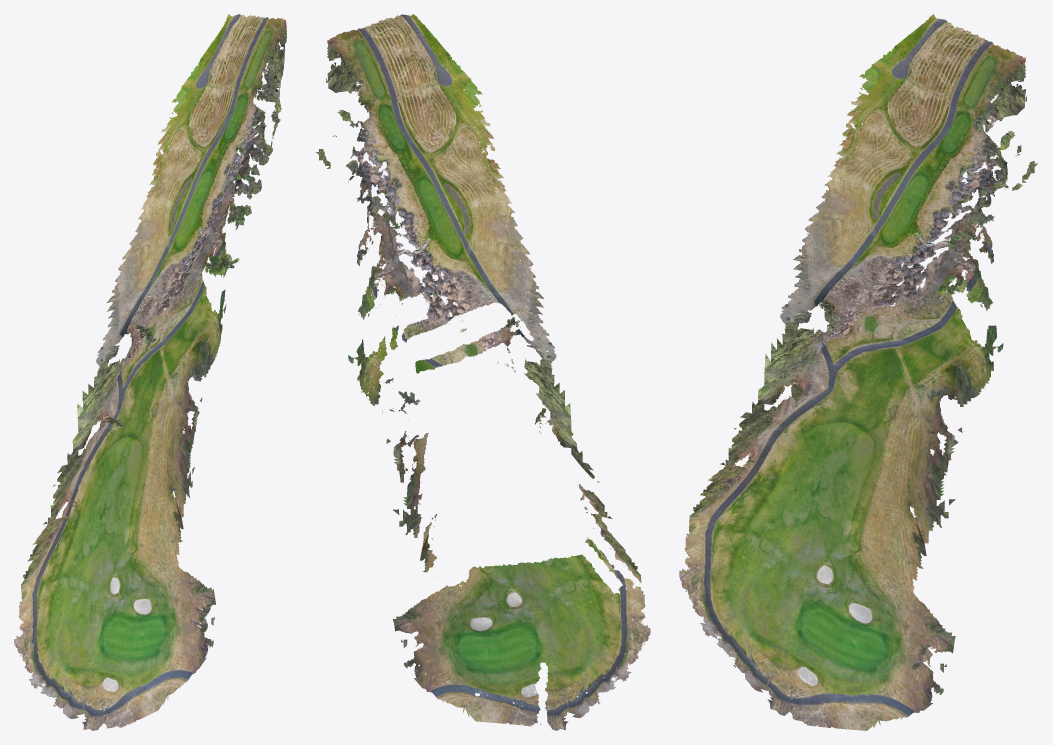
The picture shows the model from 3 angles, left to right: view 1: azimuth 30°, elevation 25°; view 2: azimuth 150°, elevation 25°; view 3: azimuth 330°, elevation 25°; orthographic projection. The views are drawn at different scales.
Bounding box in the file's own units: 149 × 327 × 39.76.
16 materials, 16 textured.
